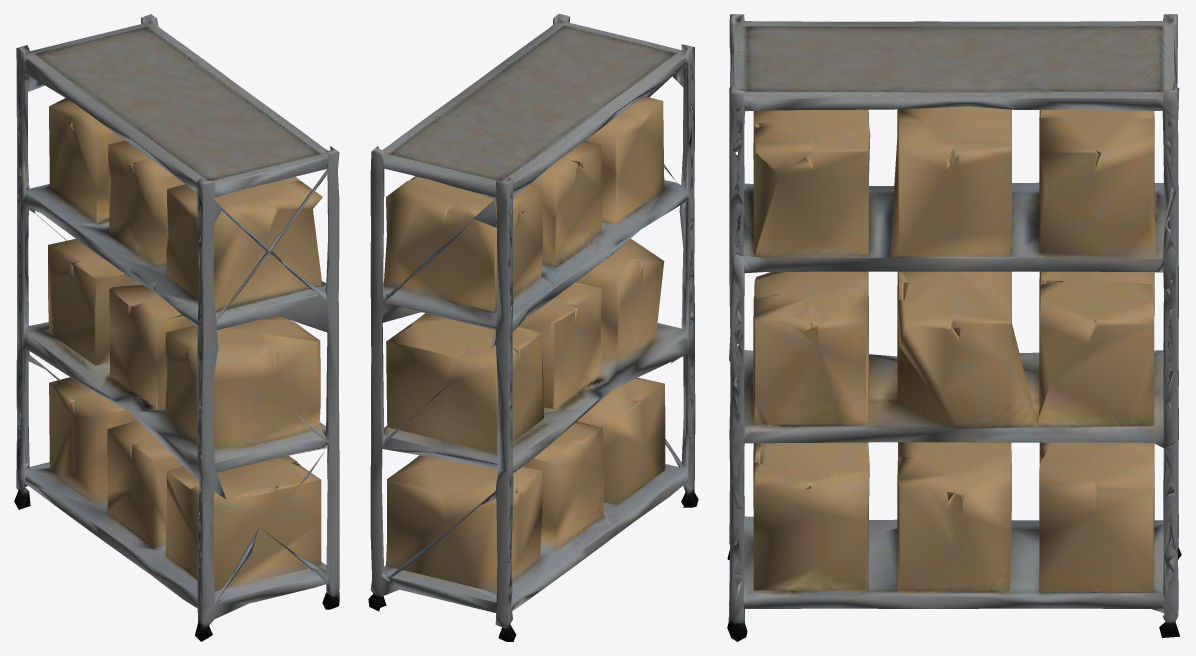
File: shelving-v2.glb
3 renders of one model, left to right at view 1: azimuth 30°, elevation 25°; view 2: azimuth 150°, elevation 25°; view 3: azimuth 270°, elevation 25°, orthographic. The views are drawn at different scales.
Parts seen in each view (by area): view 1: prop__shelving; view 2: prop__shelving; view 3: prop__shelving.
Boxes of the visible parts, x1,y1,x2,y2 form: prop__shelving: [14, 14, 339, 641]; prop__shelving: [368, 14, 698, 641]; prop__shelving: [727, 14, 1181, 641].
Bounding box in the file's own units: 0.6663 × 2 × 1.49.
Materials: 1 (1 with a texture image).
